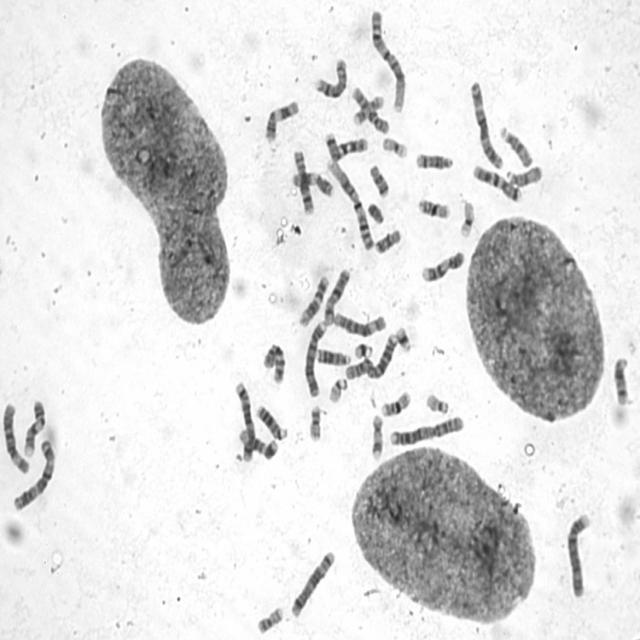A1: (325, 155, 374, 252), (368, 7, 407, 113)
A2: (387, 412, 467, 448), (343, 330, 398, 382)
A3: (11, 435, 58, 513), (467, 77, 504, 170)
B4: (563, 508, 594, 599), (302, 318, 328, 398)
B5: (288, 547, 337, 618), (233, 376, 257, 463)
C10: (350, 83, 390, 136), (260, 340, 286, 386)
C11: (263, 97, 300, 144), (290, 169, 336, 198)
C12: (296, 270, 331, 328), (236, 426, 278, 462)
C6: (1, 404, 30, 476), (330, 305, 388, 338)
C7: (471, 162, 523, 204), (323, 128, 369, 160)
C8: (291, 146, 316, 216), (312, 54, 348, 100)
C9: (419, 246, 466, 283), (20, 395, 47, 459)
D13: (255, 403, 289, 441), (314, 345, 353, 367)
D14: (413, 149, 455, 171), (612, 356, 630, 406)
D15: (498, 122, 533, 169), (504, 161, 544, 189)
E16: (380, 388, 412, 418), (416, 196, 450, 220)
E17: (352, 94, 386, 128), (368, 410, 385, 462)
E18: (367, 160, 391, 198), (372, 227, 402, 256)
F19: (457, 198, 476, 238), (380, 133, 409, 159)
F20: (254, 603, 286, 635), (306, 402, 323, 442)
G21: (393, 323, 413, 353), (352, 340, 374, 361)
G22: (423, 389, 451, 416), (326, 374, 349, 405)
X: (322, 268, 352, 326)
Y: (364, 199, 386, 225)
